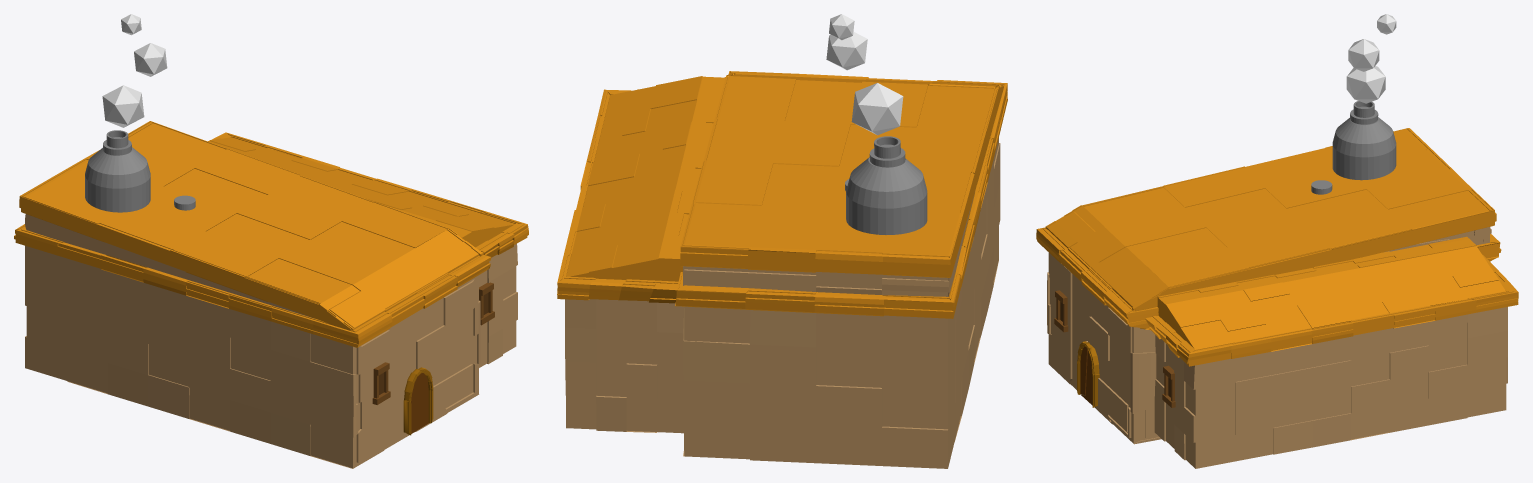
Rendered from Steam_Building_1.fbx.
The picture shows the model from 3 angles, left to right: view 1: azimuth 30°, elevation 25°; view 2: azimuth 150°, elevation 25°; view 3: azimuth 270°, elevation 25°; orthographic projection. The views are drawn at different scales.
Visible parts, largest first — view 1: Cube.434, Cylinder.861, Cube.500, Icosphere.063, Icosphere.064, Cube.501, Cylinder.862, Cube.503; view 2: Cube.434, Cylinder.861, Icosphere.063, Icosphere.064, Cylinder.862, Icosphere.065; view 3: Cube.434, Cylinder.861, Cube.500, Icosphere.063, Icosphere.064, Cylinder.862.
Boxes of the visible parts, x1,y1,x2,y2 form: Cube.434: (14, 121, 528, 468); Cylinder.861: (85, 147, 150, 212); Cube.500: (403, 367, 433, 435); Icosphere.063: (102, 85, 144, 127); Icosphere.064: (134, 43, 167, 76); Cube.501: (372, 362, 390, 404); Cylinder.862: (103, 130, 131, 155); Cube.503: (479, 282, 494, 325); Cube.434: (557, 71, 1007, 468); Cylinder.861: (846, 157, 927, 234); Icosphere.063: (851, 83, 903, 135); Icosphere.064: (826, 31, 867, 70); Cylinder.862: (869, 136, 905, 167); Icosphere.065: (829, 14, 854, 40); Cube.434: (1036, 128, 1518, 468); Cylinder.861: (1332, 117, 1396, 180); Cube.500: (1077, 341, 1099, 407); Icosphere.063: (1346, 66, 1385, 103); Icosphere.064: (1348, 39, 1379, 71); Cylinder.862: (1350, 101, 1378, 124).
Size of the model in its own units: 1955 by 1586 by 2115.
